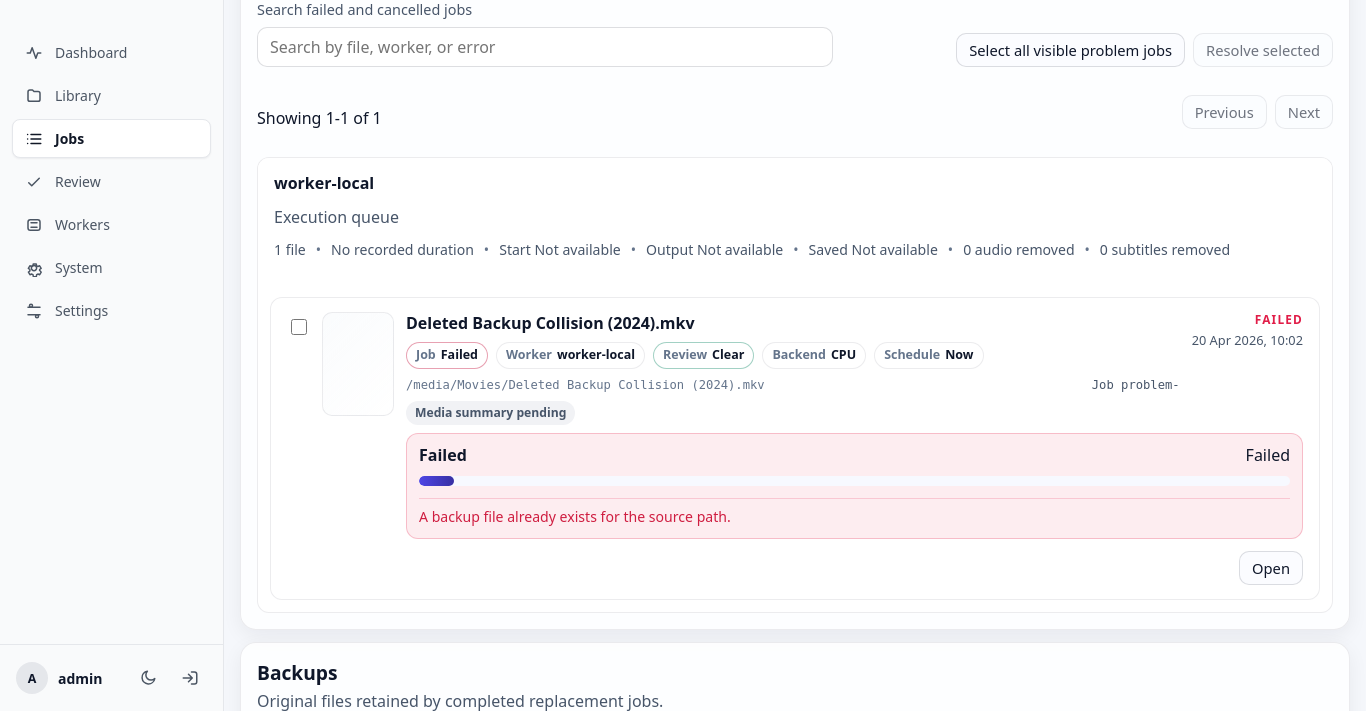
Encodr UI shell › does not offer backup replacement options after the backup was deleted
(page scrolled)
Expected: the link "Deleted Backup Collision (2024).mkv" is shown, [406,312,695,334]
Click the checkbox named "select problem job deleted backup collision" at x=299, y=327, box [291,319,307,335]
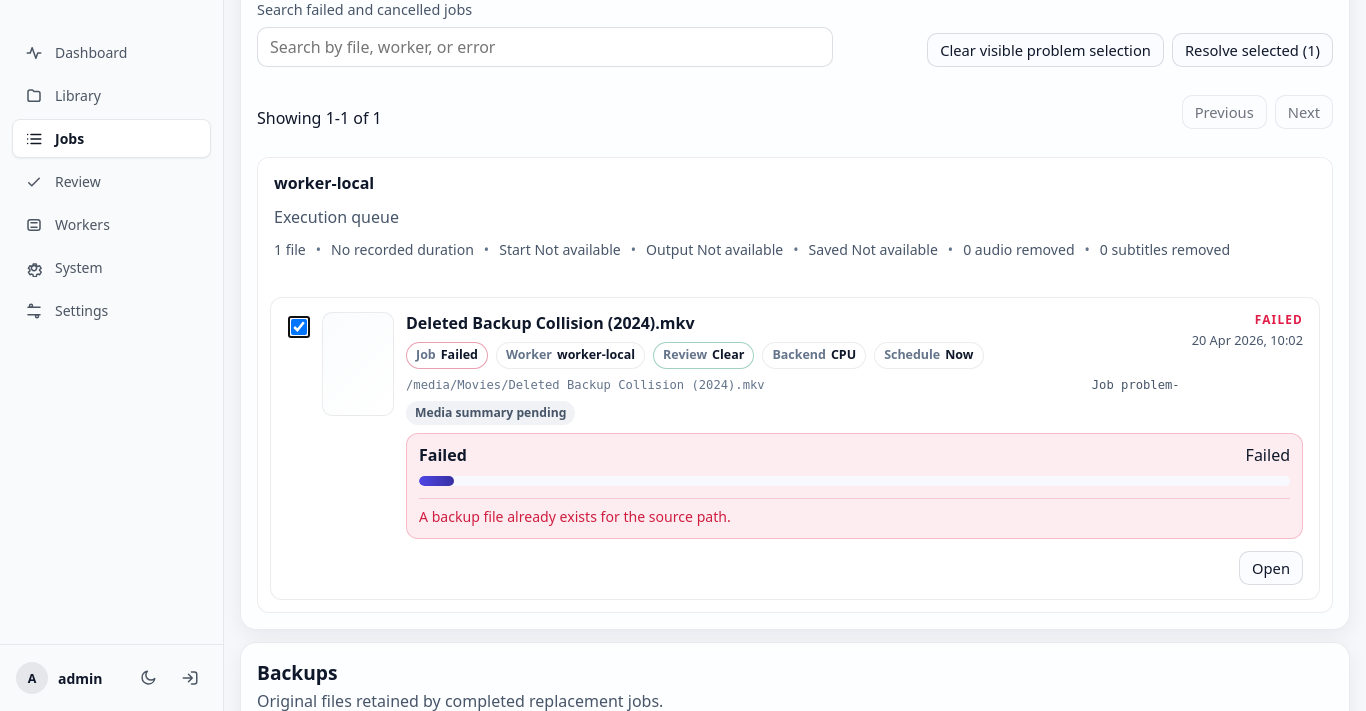
Result: the button "Resolve selected (1)" is shown at [1172,33,1333,67]
